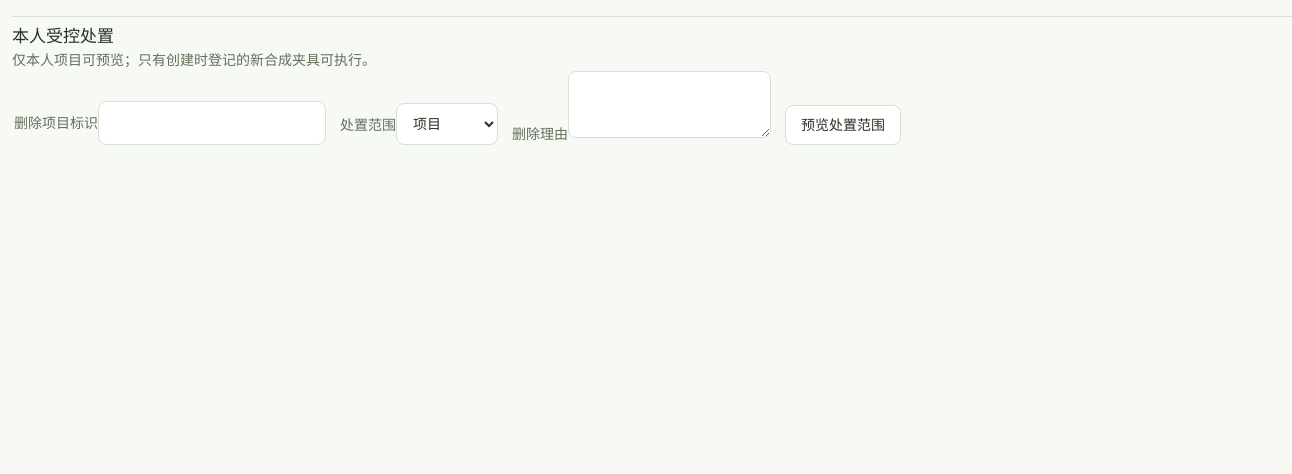
Test: safely localizes unknown deletion error codes and retains original reason, kind and input values
In the field labelled "删除项目标识": (212,123) [98,102,326,145], type "p1"
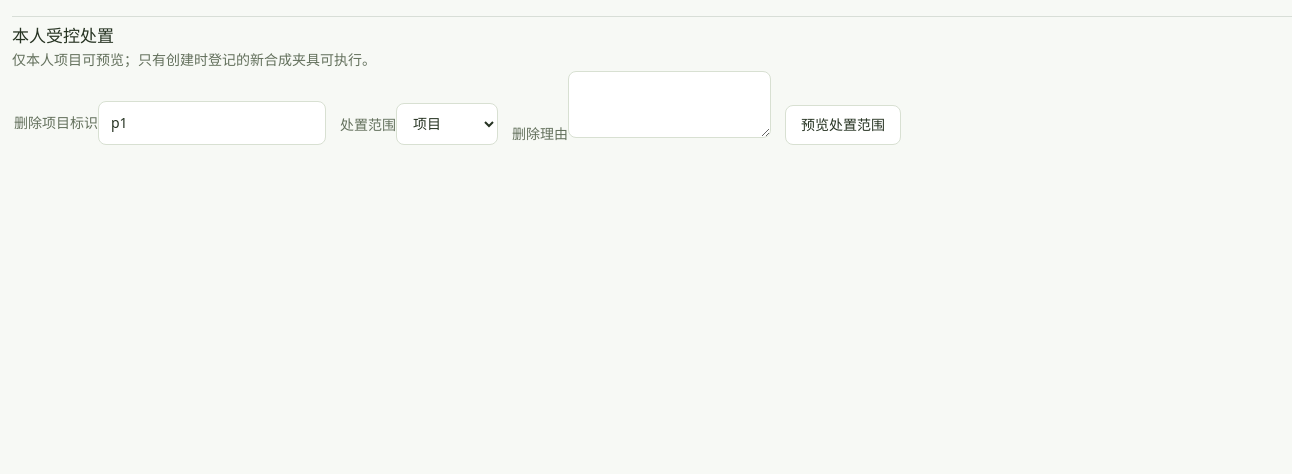
In the text box labelled "删除理由": (670,105) [568,71,771,138], type "用户理由"
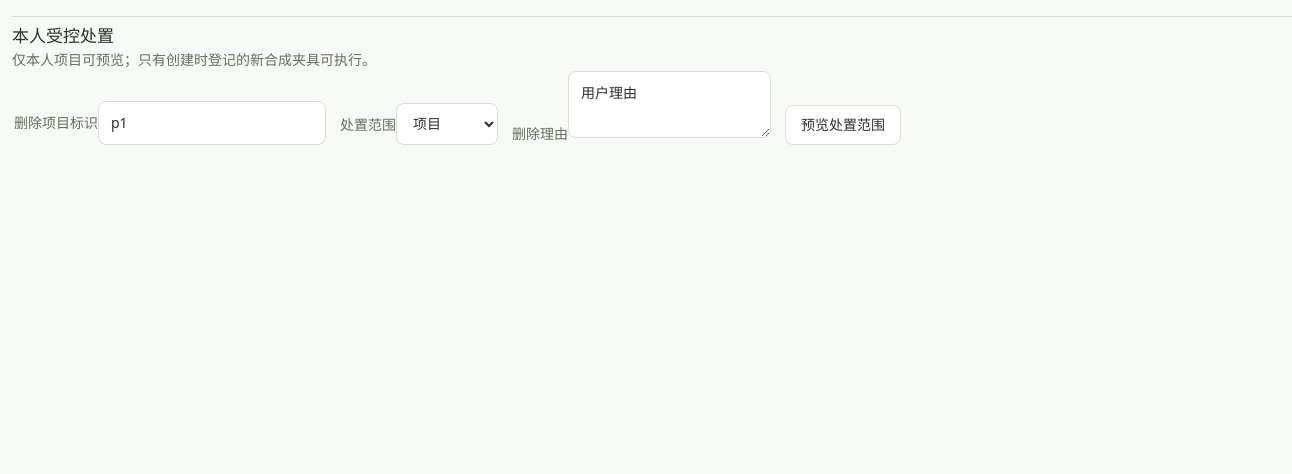
Click the button "预览处置范围": (843,125) [785,105,901,145]
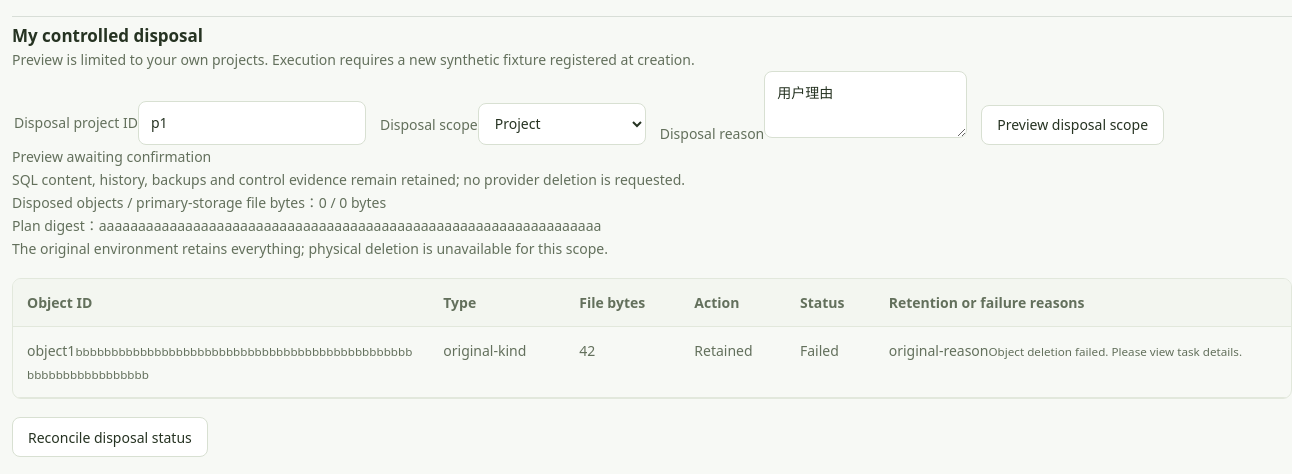
Now the text "original-kind" is shown, box [429,327,565,398]
Now the text "original-reason" is shown, box [889,341,988,360]
Now the text "Object deletion failed. Please view task details." is shown, box [988,344,1242,359]
